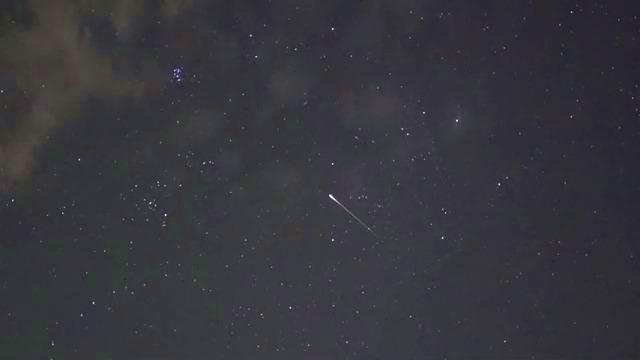meteorite: (313, 190, 390, 237)
